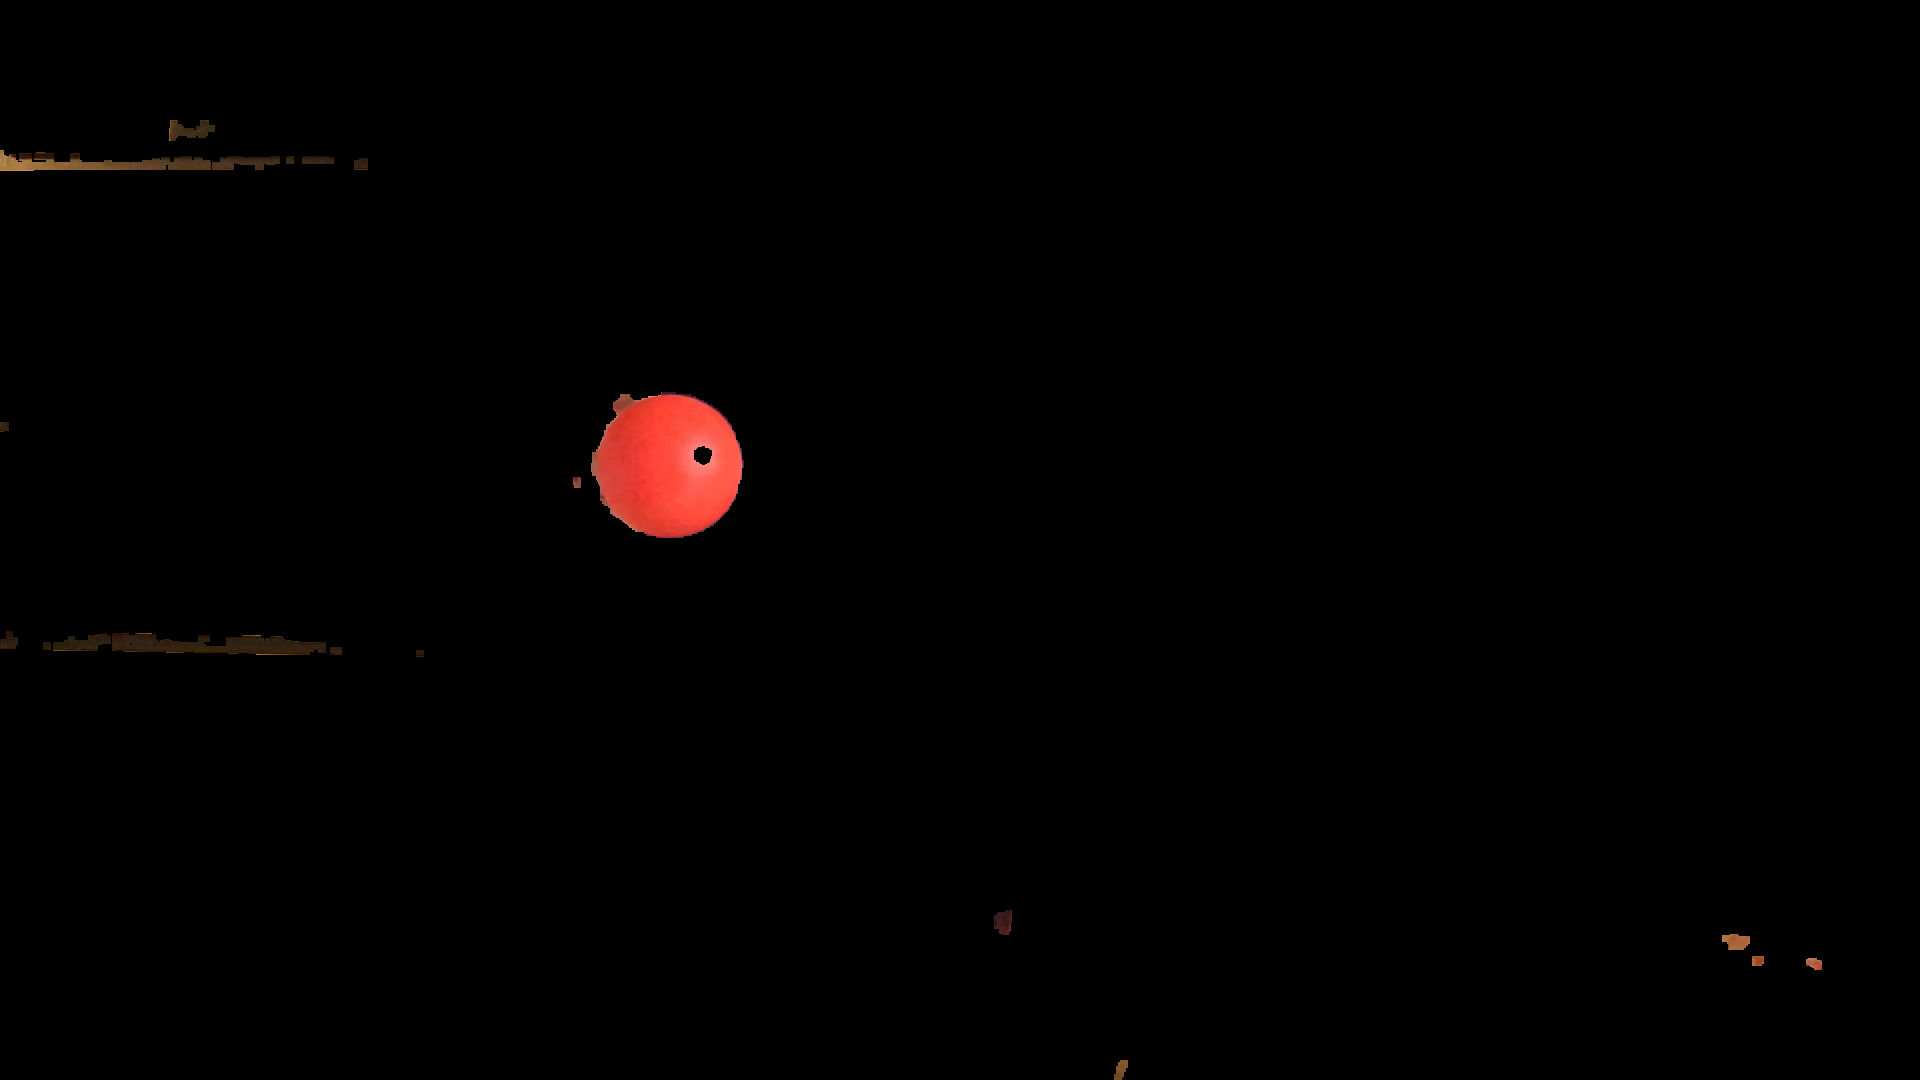Ball: (599, 386, 744, 541)
